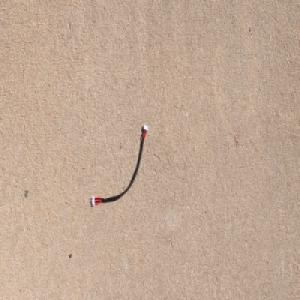Wire: (90, 123, 148, 207)
